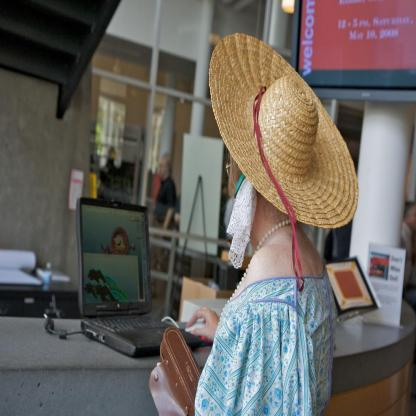board: (76, 201, 209, 360)
